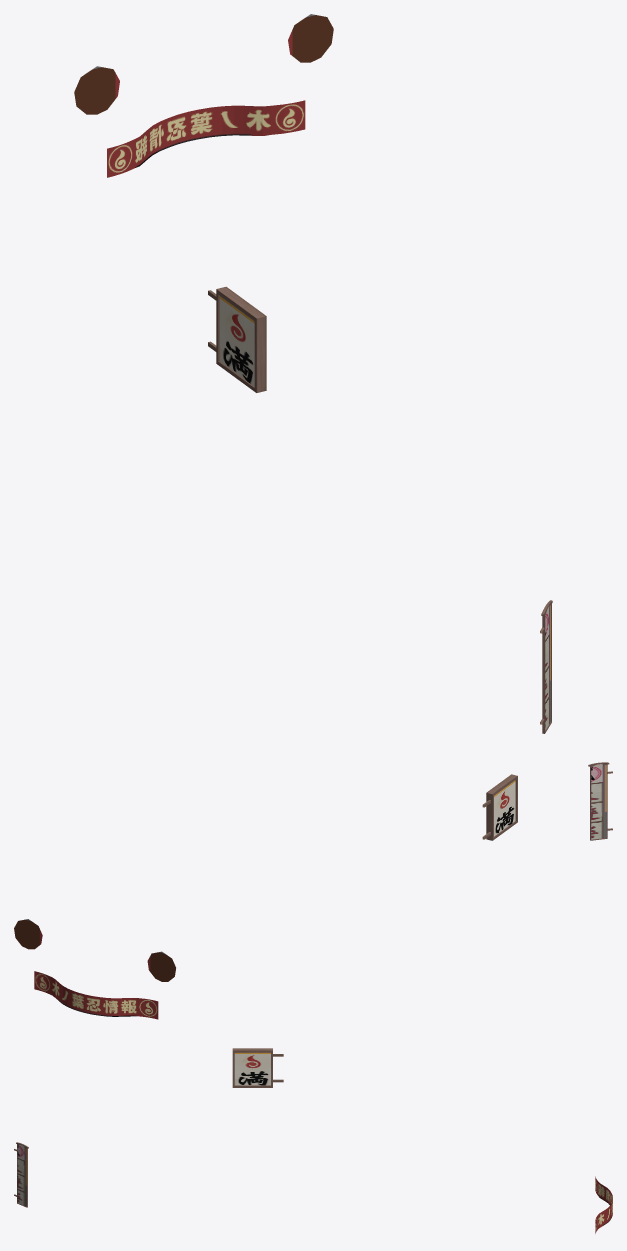
Rendered from SM_ENV_KNVLLG_Signs_5.fbx.
3 renders of one model, top to bottom at view 1: azimuth 30°, elevation 25°; view 2: azimuth 150°, elevation 25°; view 3: azimuth 270°, elevation 25°, orthographic. The views are drawn at different scales.
Parts seen in each view (by area): view 1: SM_ENV_KNVLLG_Signs_5.mo; view 2: SM_ENV_KNVLLG_Signs_5.mo; view 3: SM_ENV_KNVLLG_Signs_5.mo.
Boxes of the visible parts, x1,y1,x2,y2 form: SM_ENV_KNVLLG_Signs_5.mo: [74, 14, 552, 733]; SM_ENV_KNVLLG_Signs_5.mo: [14, 762, 612, 1019]; SM_ENV_KNVLLG_Signs_5.mo: [14, 1048, 612, 1233].
Bounding box in the file's own units: 3673 × 2186 × 8626.
